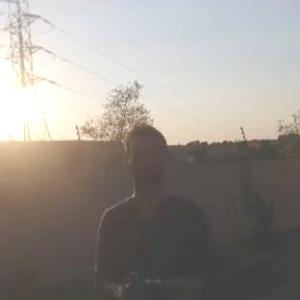follow: (93, 117, 222, 299)
